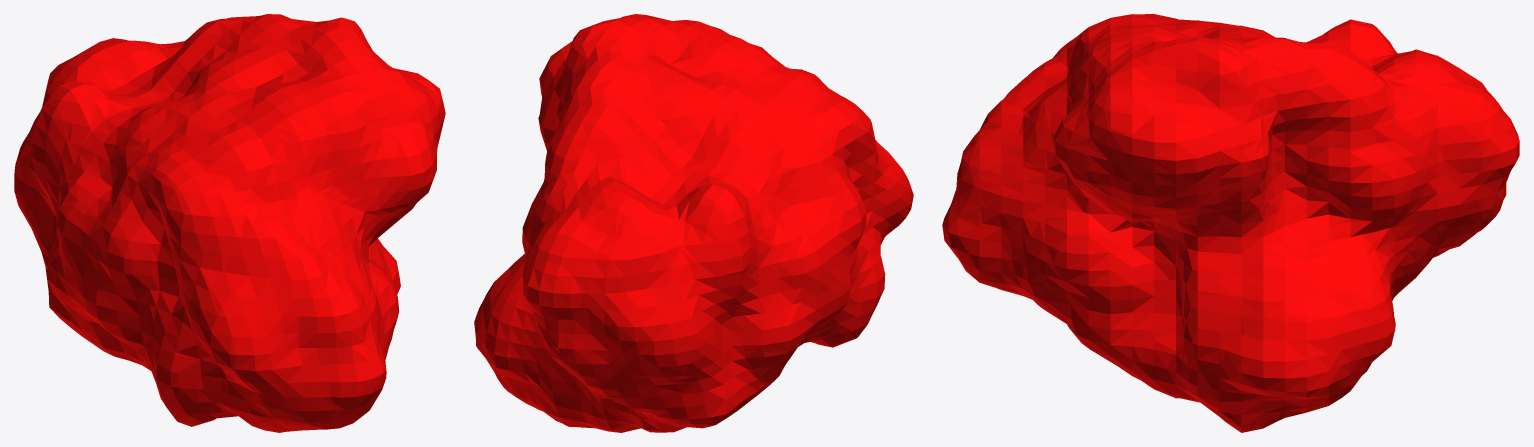
File: kbl_coarse.dae
3 renders of one model, left to right at view 1: azimuth 30°, elevation 25°; view 2: azimuth 150°, elevation 25°; view 3: azimuth 270°, elevation 25°, orthographic. The views are drawn at different scales.
Visible parts, largest first — view 1: kbl; view 2: kbl; view 3: kbl.
Part boxes in pixels (x1,y1,x2,y2): kbl: (14, 14, 445, 432); kbl: (474, 14, 913, 432); kbl: (942, 14, 1519, 432).
Bounding box in the file's own units: 62.39 × 67.38 × 92.87.
